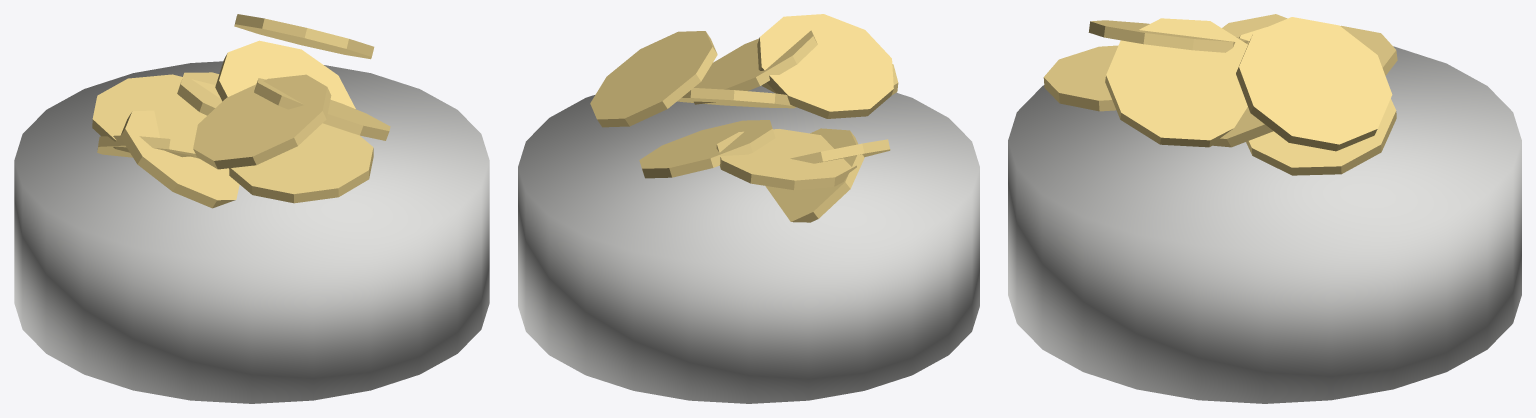
The model's file is chips.glb.
3 views of the same model, side by side, from view 1: azimuth 30°, elevation 25°; view 2: azimuth 150°, elevation 25°; view 3: azimuth 270°, elevation 25° (orthographic). The views are drawn at different scales.
Parts seen in each view (by area): view 1: Bowl, Chip7, Chip4, Chip3, Chip1, Chip5, Chip8, Chip6, Chip2, Chip0; view 2: Bowl, Chip7, Chip8, Chip3, Chip2, Chip6, Chip0, Chip5, Chip1; view 3: Bowl, Chip8, Chip6, Chip2, Chip4, Chip7, Chip5, Chip3, Chip1.
Boxes of the visible parts, x1,y1,x2,y2 form: Bowl: (14,61,489,403); Chip7: (193,74,331,169); Chip4: (229,123,373,203); Chip3: (92,74,220,157); Chip1: (120,110,239,208); Chip5: (215,40,355,108); Chip8: (234,14,374,59); Chip6: (254,78,390,140); Chip2: (177,72,222,115); Chip0: (97,135,198,158); Bowl: (518,85,979,403); Chip7: (757,14,893,118); Chip8: (590,31,717,127); Chip3: (716,129,856,190); Chip2: (639,120,775,178); Chip6: (694,30,817,104); Chip0: (765,128,864,222); Chip5: (677,88,796,108); Chip1: (790,139,890,163); Bowl: (1008,46,1521,403); Chip8: (1236,17,1392,151); Chip6: (1105,18,1247,147); Chip2: (1246,98,1396,175); Chip4: (1043,45,1118,111); Chip7: (1088,20,1248,52); Chip5: (1213,41,1273,147); Chip3: (1340,25,1397,75); Chip1: (1222,14,1287,37).
Bounding box in the file's own units: 0.18 × 0.1128 × 0.18.
